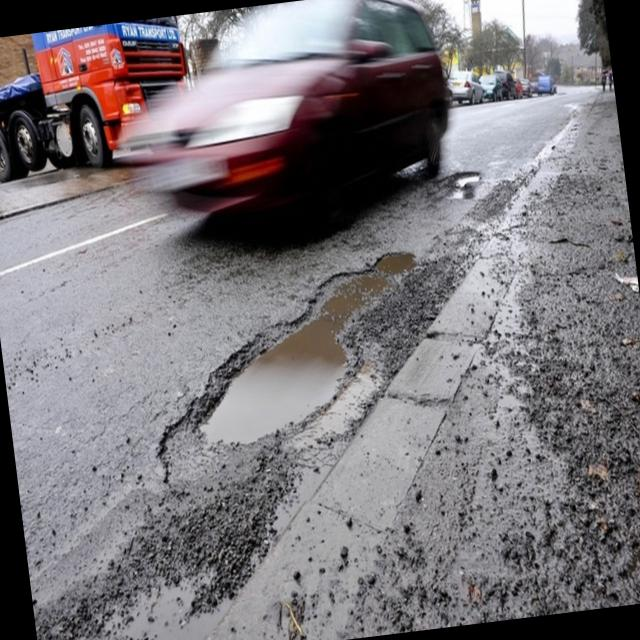Potholes: (140, 215, 448, 522), (430, 132, 496, 226)
